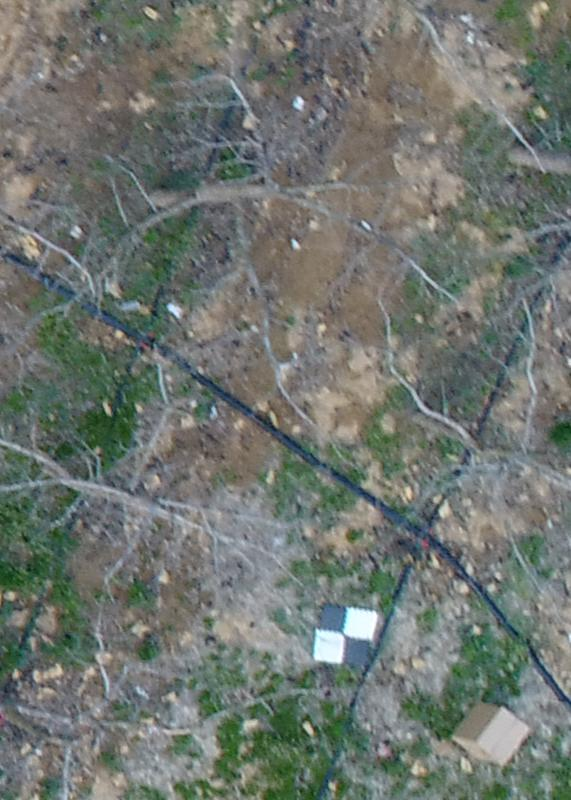apple: (70, 69, 499, 448), (10, 358, 311, 621), (10, 622, 344, 790)
